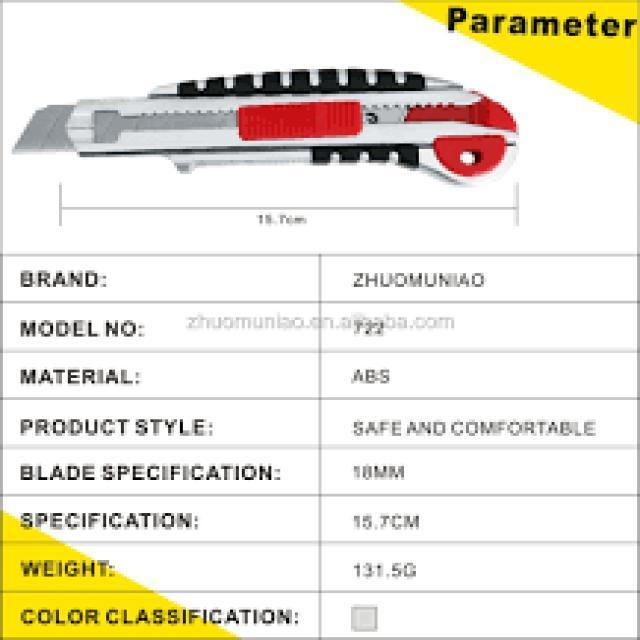cutter: (3, 66, 534, 194)
